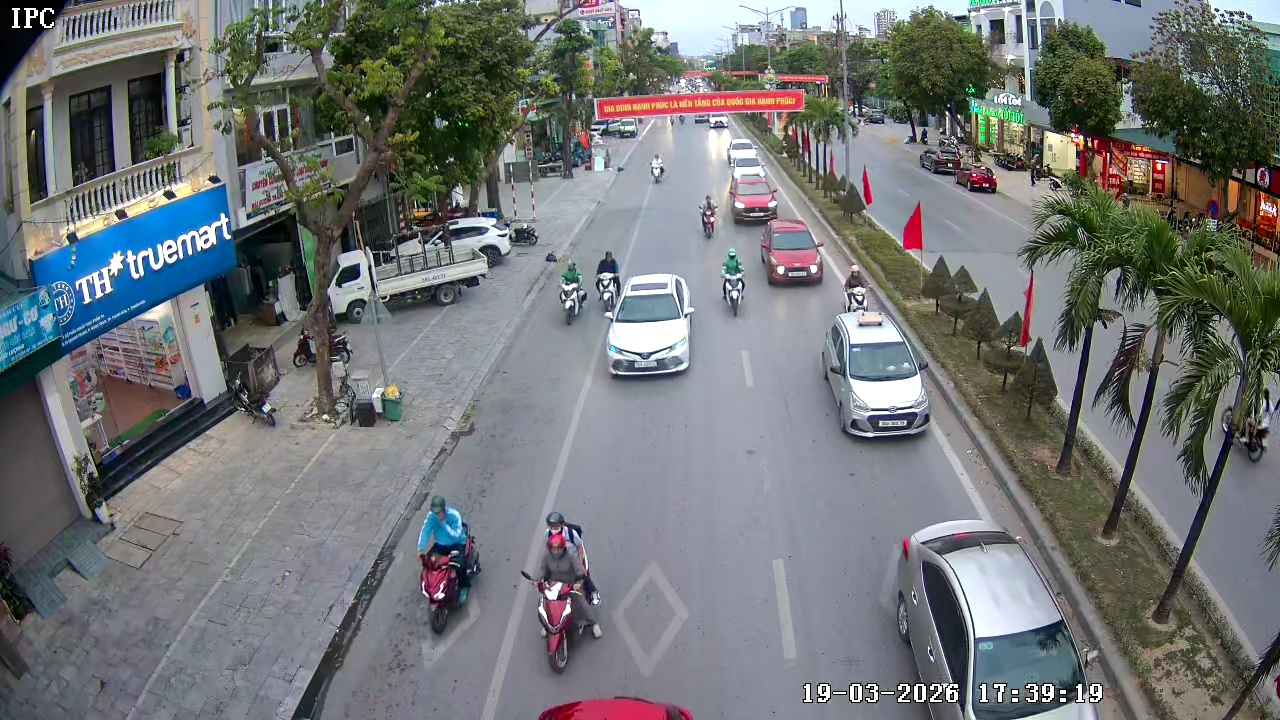car: (890, 519, 1108, 719), (821, 310, 931, 439), (603, 272, 695, 378), (759, 217, 825, 287), (727, 169, 779, 223)
motorbike: (521, 512, 605, 673), (417, 529, 476, 635), (719, 247, 748, 318), (593, 248, 623, 313), (558, 261, 587, 326), (841, 264, 869, 314), (698, 193, 720, 239), (651, 152, 667, 184)
